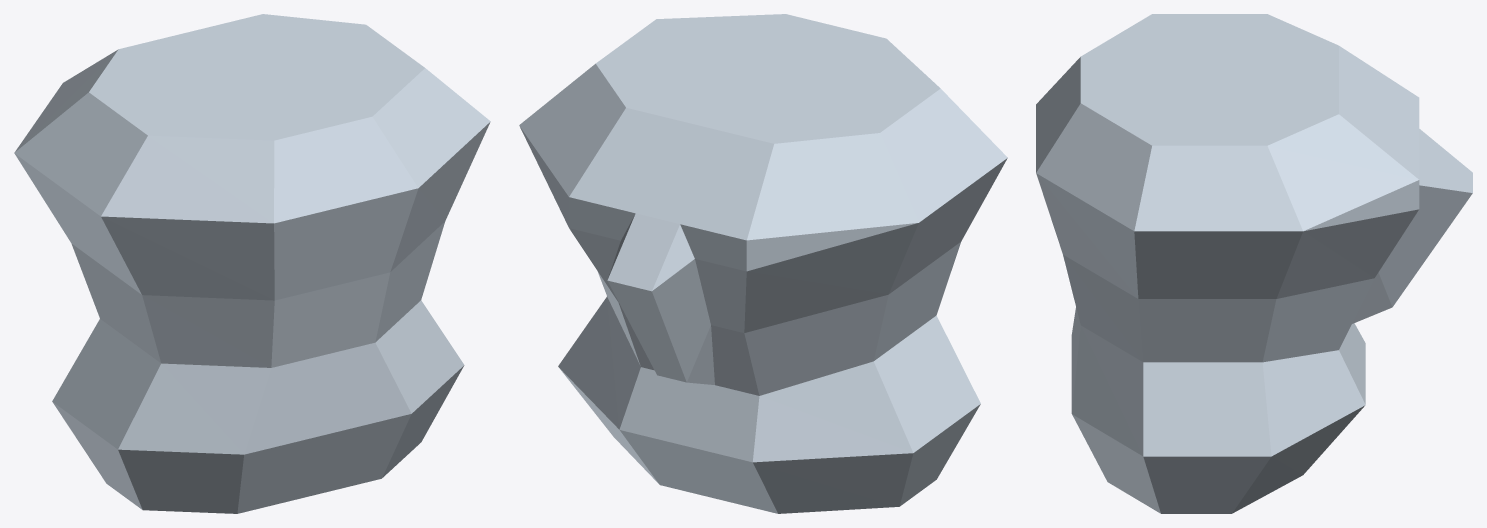
File: body.FBX
3 views of the same model, side by side, from view 1: azimuth 30°, elevation 25°; view 2: azimuth 150°, elevation 25°; view 3: azimuth 270°, elevation 25° (orthographic). The views are drawn at different scales.
Visible parts, largest first — view 1: VIFS001; view 2: VIFS001; view 3: VIFS001.
Boxes of the visible parts, bbox=[...] form: VIFS001: bbox=[14, 14, 490, 513]; VIFS001: bbox=[519, 14, 1007, 513]; VIFS001: bbox=[1036, 14, 1472, 513].
Size of the model in its own units: 1.08 by 1 by 1.08.
